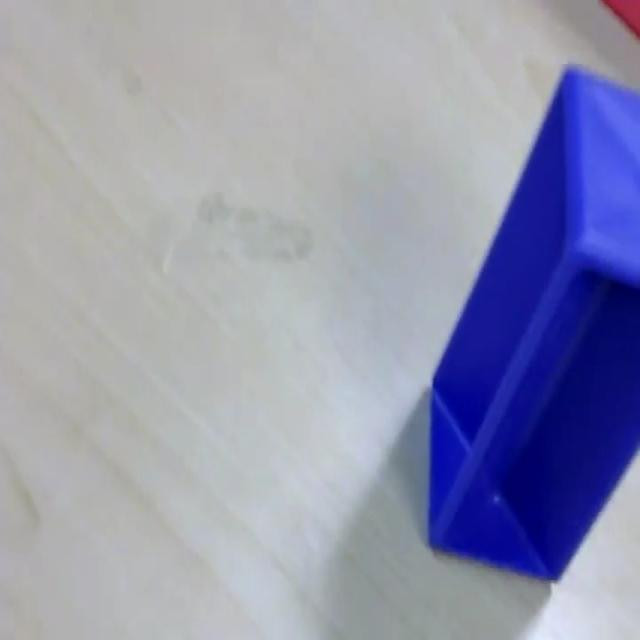blue_block: (426, 60, 638, 583)
